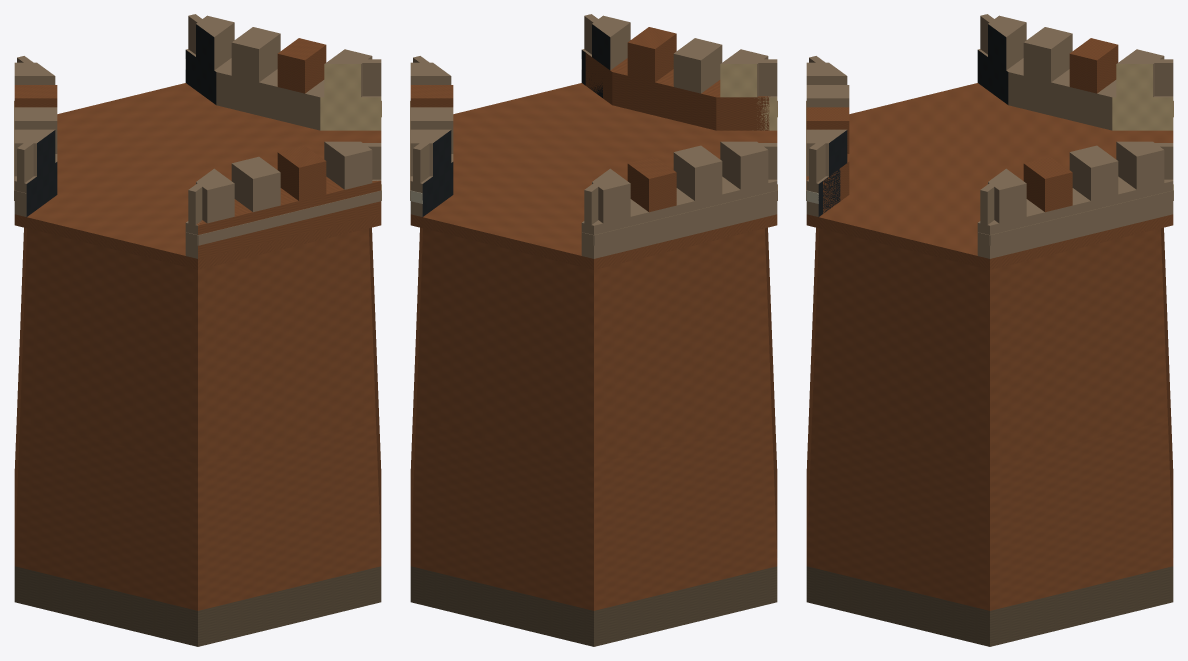
File: Berber_Bastion_Age2_why.fbx
3 views of the same model, side by side, from view 1: azimuth 30°, elevation 25°; view 2: azimuth 150°, elevation 25°; view 3: azimuth 270°, elevation 25° (orthographic).
Visible parts, largest first — view 1: why_battered_upper, why_battered_lower, why_continuous_walk_floor, why_stone_foot, why_guard_0_0, why_guard_2_0, why_merlon_0_0_2, why_merlon_2_0_2, why_merlon_0_0_1, why_merlon_2_0_1, why_owner_band_2_0, why_merlon_2_0_0 (+13 smaller); view 2: why_battered_upper, why_battered_lower, why_continuous_walk_floor, why_stone_foot, why_guard_2_0, why_guard_4_0, why_merlon_2_0_2, why_merlon_4_0_2, why_merlon_2_0_1, why_merlon_4_0_1, why_owner_band_4_0, why_merlon_4_0_0 (+13 smaller); view 3: why_battered_upper, why_battered_lower, why_continuous_walk_floor, why_stone_foot, why_guard_4_0, why_guard_0_0, why_merlon_4_0_2, why_merlon_0_0_2, why_merlon_0_0_1, why_merlon_4_0_1, why_owner_band_0_0, why_merlon_0_0_0 (+14 smaller).
Part boxes in pixels (bbox=[...]): why_battered_upper: bbox=[20, 227, 375, 463]; why_battered_lower: bbox=[14, 339, 381, 610]; why_continuous_walk_floor: bbox=[14, 83, 381, 269]; why_stone_foot: bbox=[14, 566, 381, 646]; why_guard_0_0: bbox=[189, 52, 373, 130]; why_guard_2_0: bbox=[196, 176, 381, 258]; why_merlon_0_0_2: bbox=[277, 38, 326, 93]; why_merlon_2_0_2: bbox=[231, 156, 280, 212]; why_merlon_0_0_1: bbox=[231, 27, 280, 82]; why_merlon_2_0_1: bbox=[277, 145, 326, 200]; why_owner_band_2_0: bbox=[198, 190, 381, 245]; why_merlon_2_0_0: bbox=[324, 141, 372, 189]; why_battered_upper: bbox=[416, 227, 771, 463]; why_battered_lower: bbox=[410, 339, 777, 610]; why_continuous_walk_floor: bbox=[410, 83, 777, 269]; why_stone_foot: bbox=[410, 566, 777, 646]; why_guard_2_0: bbox=[585, 53, 770, 130]; why_guard_4_0: bbox=[592, 176, 777, 258]; why_merlon_2_0_2: bbox=[673, 38, 722, 93]; why_merlon_4_0_2: bbox=[627, 156, 676, 212]; why_merlon_2_0_1: bbox=[627, 27, 676, 82]; why_merlon_4_0_1: bbox=[673, 145, 722, 200]; why_owner_band_4_0: bbox=[594, 190, 777, 245]; why_merlon_4_0_0: bbox=[720, 141, 768, 189]; why_battered_upper: bbox=[812, 227, 1167, 463]; why_battered_lower: bbox=[806, 339, 1173, 610]; why_continuous_walk_floor: bbox=[806, 83, 1173, 269]; why_stone_foot: bbox=[806, 566, 1173, 646]; why_guard_4_0: bbox=[981, 52, 1165, 130]; why_guard_0_0: bbox=[988, 176, 1173, 258]; why_merlon_4_0_2: bbox=[1069, 38, 1118, 93]; why_merlon_0_0_2: bbox=[1023, 156, 1072, 212]; why_merlon_0_0_1: bbox=[1069, 145, 1118, 200]; why_merlon_4_0_1: bbox=[1023, 27, 1072, 82]; why_owner_band_0_0: bbox=[990, 190, 1173, 245]; why_merlon_0_0_0: bbox=[1116, 141, 1164, 189].
Bounding box in the file's own units: 694 × 820 × 601.
3 materials, 3 textured.
